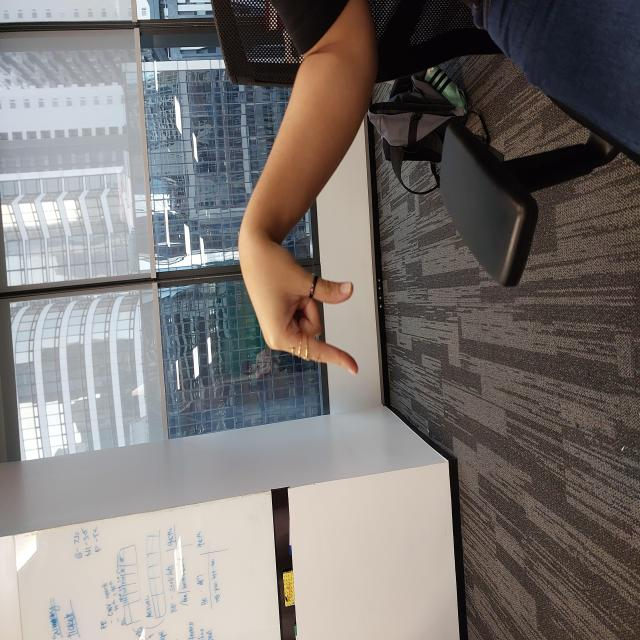Q: (262, 236, 424, 361)
